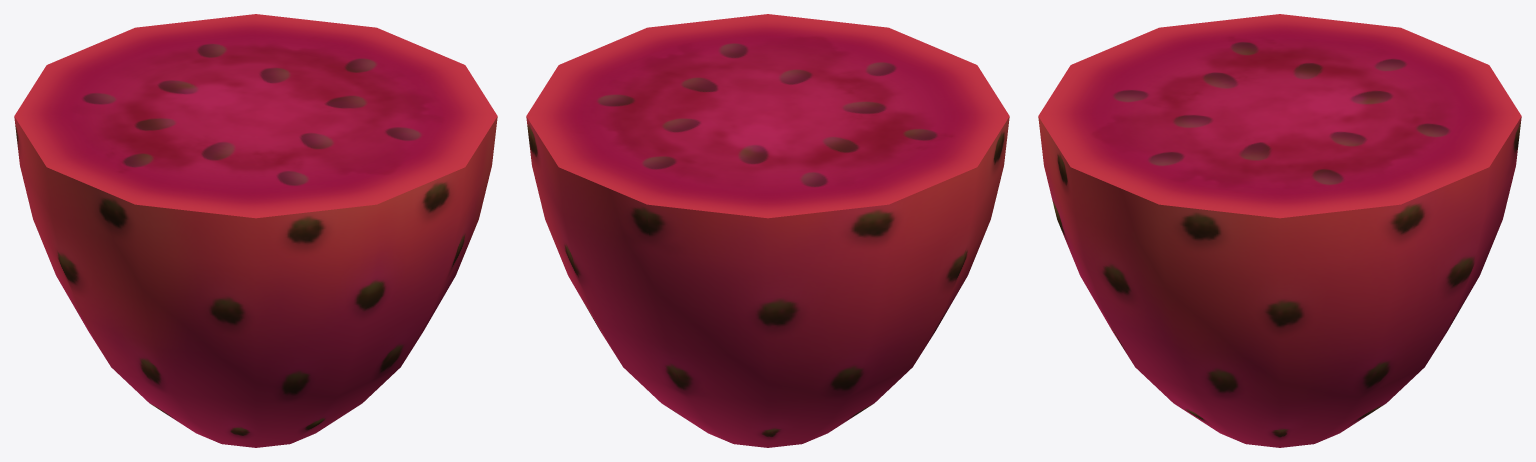
The model's file is PricklyPear_Pink_Half.fbx.
3 views of the same model, side by side, from view 1: azimuth 30°, elevation 25°; view 2: azimuth 150°, elevation 25°; view 3: azimuth 270°, elevation 25° (orthographic).
Visible parts, largest first — view 1: PricklyPear_Pink_Half; view 2: PricklyPear_Pink_Half; view 3: PricklyPear_Pink_Half.
Boxes of the visible parts, x1,y1,x2,y2 form: PricklyPear_Pink_Half: (14, 14, 497, 447); PricklyPear_Pink_Half: (526, 14, 1009, 447); PricklyPear_Pink_Half: (1038, 14, 1521, 447).
Size of the model in its own units: 28.17 by 21.09 by 28.17.
